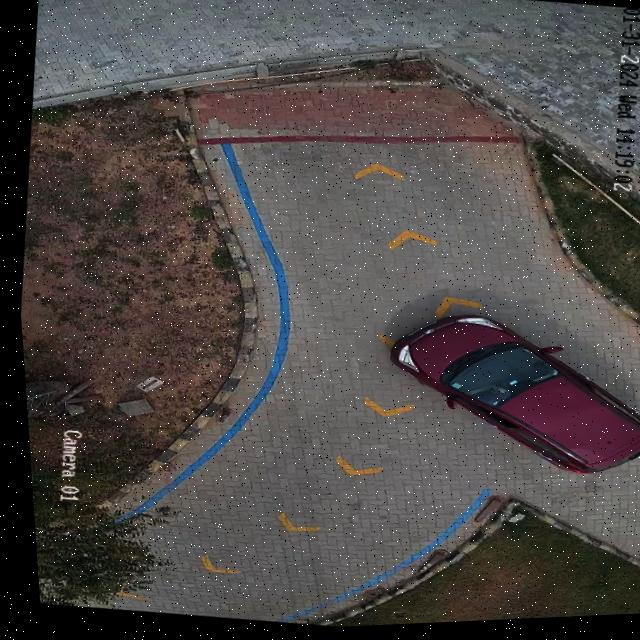car: (385, 320, 640, 479)
